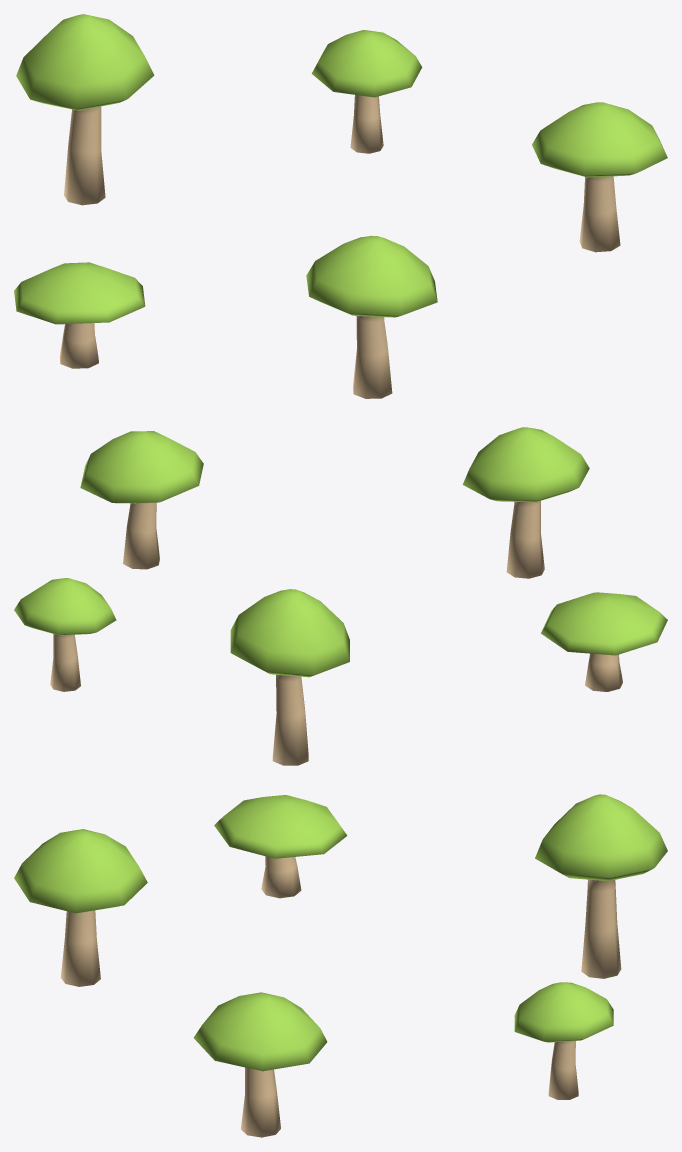
Rendered from 7637f0c2-4812-432e-a2ab-972df40eed30.glb.
The picture shows the model from 3 angles, top to bottom: view 1: azimuth 30°, elevation 25°; view 2: azimuth 150°, elevation 25°; view 3: azimuth 270°, elevation 25°; orthographic projection. The views are drawn at different scales.
Parts seen in each view (by area): view 1: MushroomPatchGreen; view 2: MushroomPatchGreen; view 3: MushroomPatchGreen.
Boxes of the visible parts, x1,y1,x2,y2 form: MushroomPatchGreen: (14, 14, 667, 398); MushroomPatchGreen: (14, 427, 667, 765); MushroomPatchGreen: (14, 794, 667, 1137).
Size of what is drawn, in the model's own units: 1.66 by 0.4528 by 1.55.
1 material, 1 textured.
